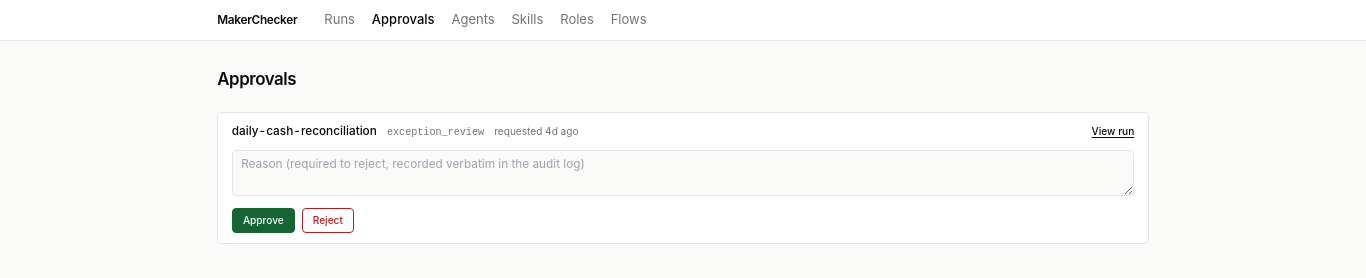
Test: ApprovalsPage › surfaces decision failures (e.g. already decided)
Click the button "Approve" at x=263, y=220, box [232, 208, 295, 233]
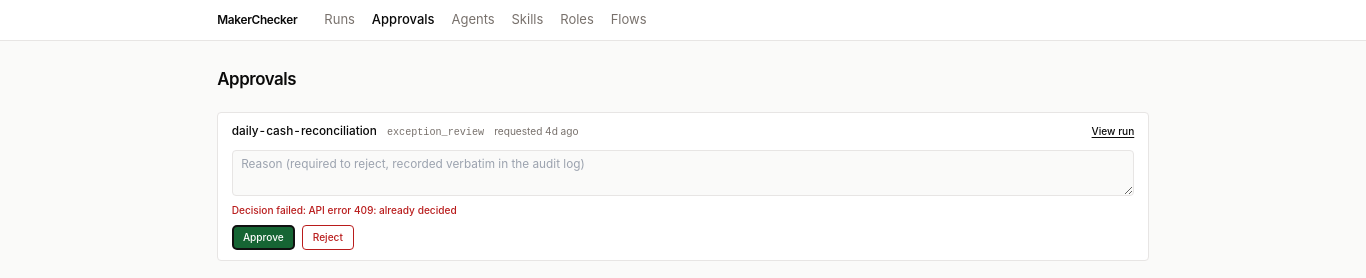
Check: the text "Decision failed: API error 409: already decided" is shown, box [232, 204, 457, 216]
